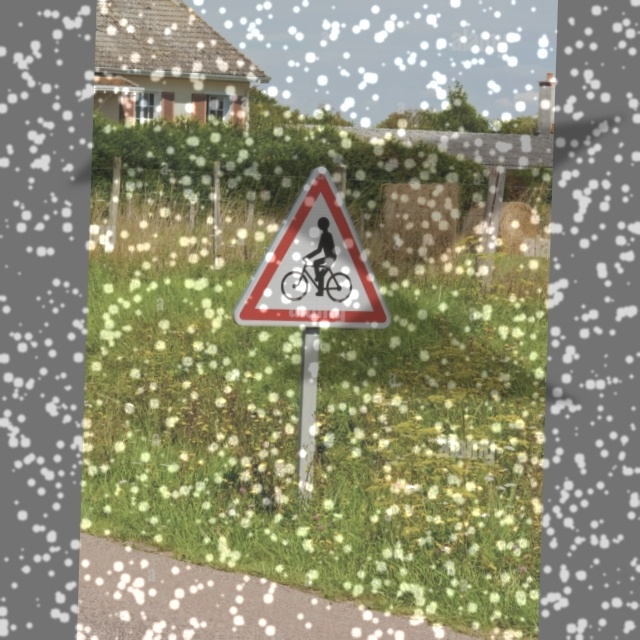Cycle_Crossing: (245, 168, 396, 336)
